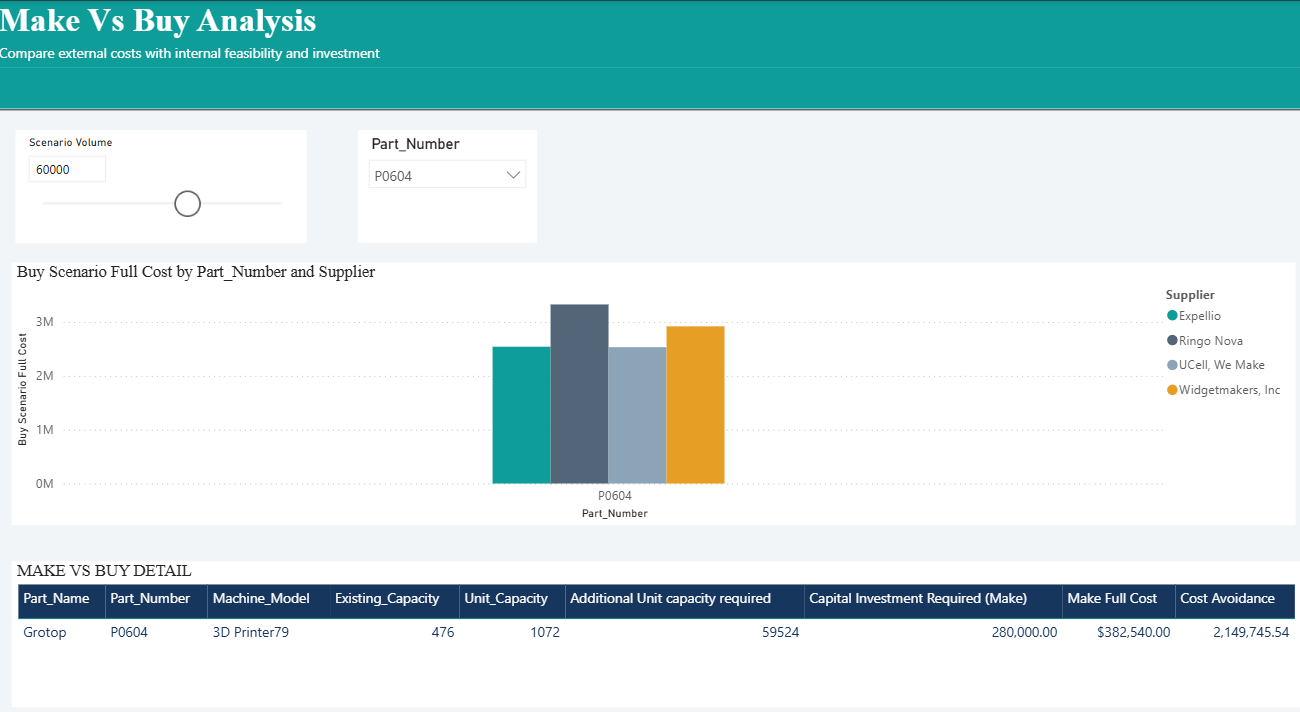

This screenshot's page, from the dashboard's own definition file:
{"tool":"powerbi","page":{"name":"Make vs Buy Analysis","canvas":[1280,720],"ordinal":2},"visuals":[{"type":"slicer","fields":{"Values":["Scenario Volume.Scenario Volume"]},"box":[16.9,125.5,279.9,108.6],"z":0},{"type":"tableEx","title":"MAKE VS BUY DETAIL","fields":{"Values":["Product_Dimension.Part_Name","Product_Dimension.Part_Number","Internal_Mfg_Resource_Estimates.Machine_Model","Internal_Mfg_Resource_Estimates.Existing_Capacity","Internal_Mfg_Resource_Estimates.Unit_Capacity","Internal_Mfg_Resource_Estimates.Additional Unit capacity required","Internal_Mfg_Resource_Estimates.Capital Investment Required (Make)","Internal_Mfg_Resource_Estimates.Make Full Cost","Scenario Volume.Cost Avoidance"]},"box":[13.3,541.7,1247.5,141.2],"z":1000},{"type":"slicer","fields":{"Values":["Internal_Mfg_Resource_Estimates.Part_Number"]},"box":[347.5,125.5,172.5,108.6],"z":2000},{"type":"clusteredColumnChart","fields":{"Category":["Product_Dimension.Part_Number"],"Series":["Quotes.Supplier"],"Y":["Scenario Volume.Scenario_Full-Cost Buy"]},"box":[13.3,253.4,1239,253.4],"z":3000},{"type":"shape","title":"Make Vs Buy Analysis","box":[0,0,1261.9,106.2],"z":4000}]}

Visuals, with their boxes in screenshot pixels (x1, y1, x2, y2), scaled from the page's 1280x720 canvas onto the 1300x712 screenshot:
slicer - Scenario Volume.Scenario Volume: l=17, t=124, r=301, b=231
"MAKE VS BUY DETAIL" tableEx: l=14, t=536, r=1280, b=675
slicer - Internal_Mfg_Resource_Estimates.Part_Number: l=353, t=124, r=528, b=231
clusteredColumnChart - Product_Dimension.Part_Number x Quotes.Supplier: l=14, t=251, r=1272, b=501
"Make Vs Buy Analysis" shape: l=0, t=0, r=1282, b=105
